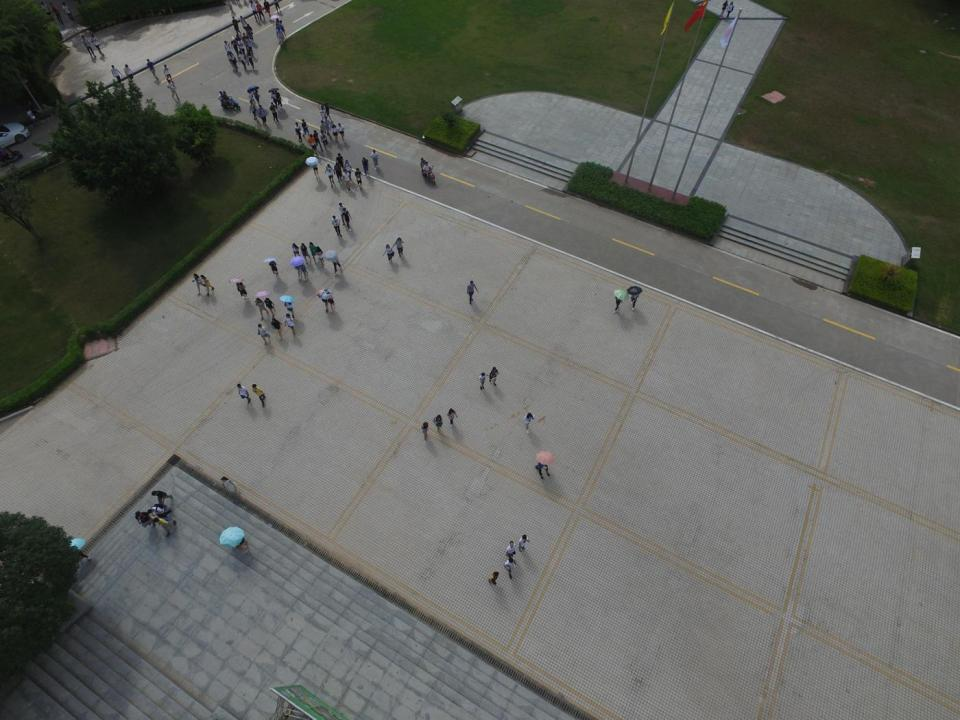car: (0, 121, 30, 149)
